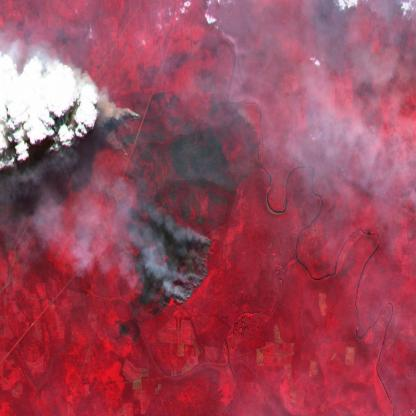fire: (90, 98, 213, 308)
